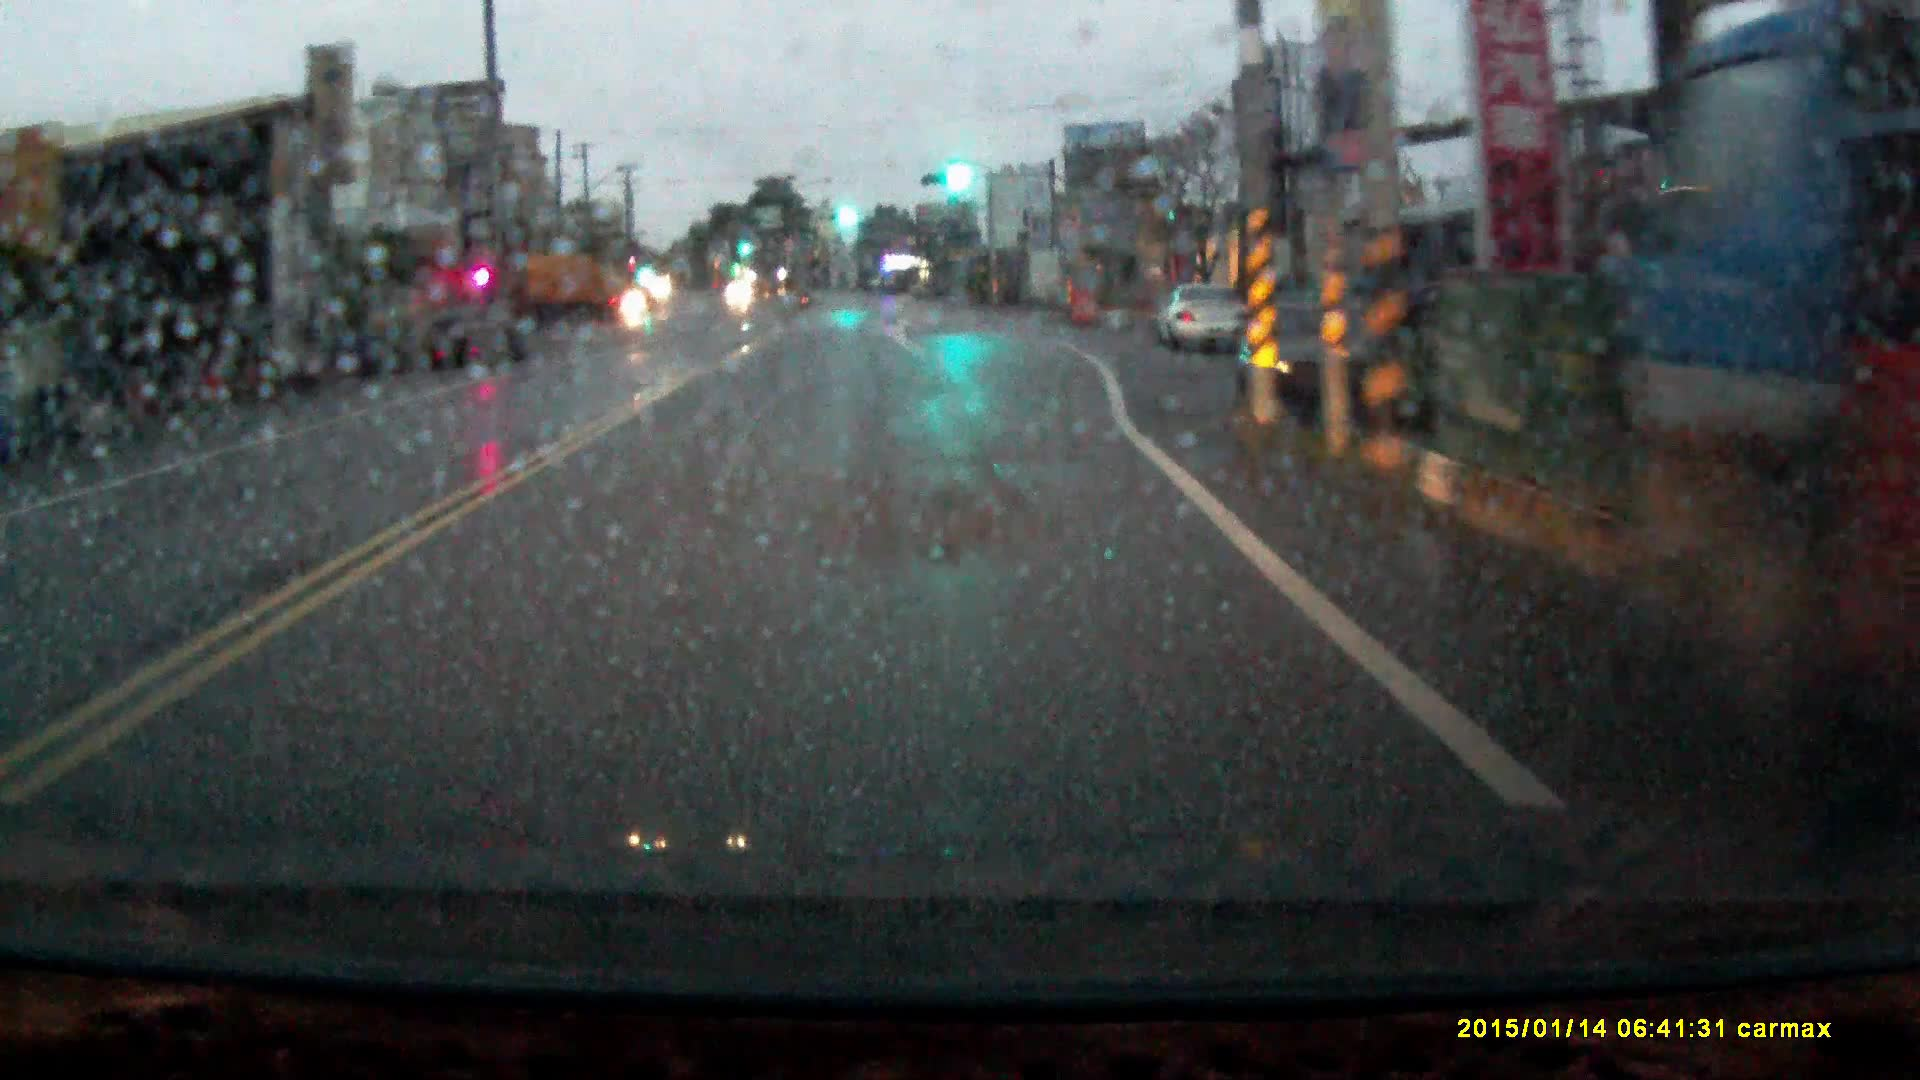rider: (620, 276, 650, 336)
vehicle: (1225, 297, 1396, 429), (510, 258, 616, 335), (424, 309, 529, 375), (1150, 288, 1243, 356)
